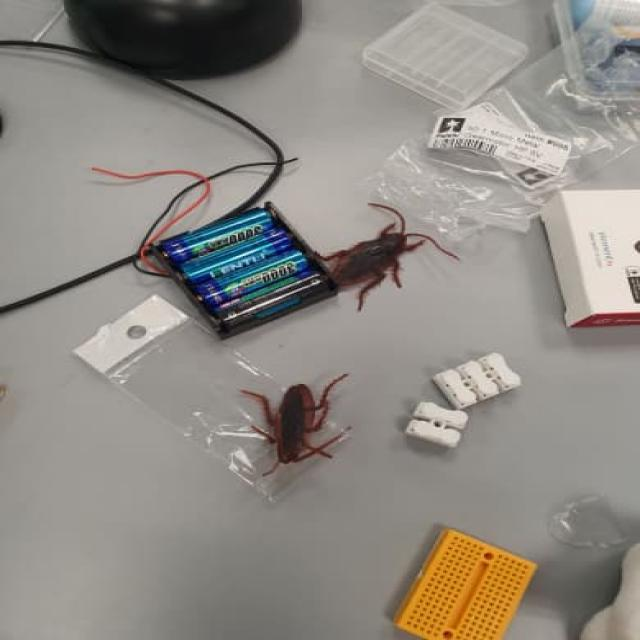Cockroach: (245, 372, 351, 472), (318, 217, 427, 309)
